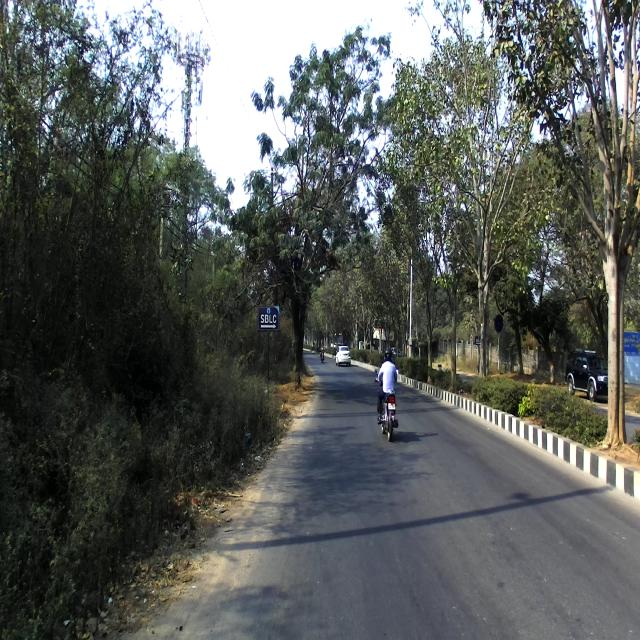motorcycle ahead at: (376, 386, 402, 446)
sign board ahead at: (254, 299, 282, 335)
tree ahead at: (282, 249, 322, 406)
